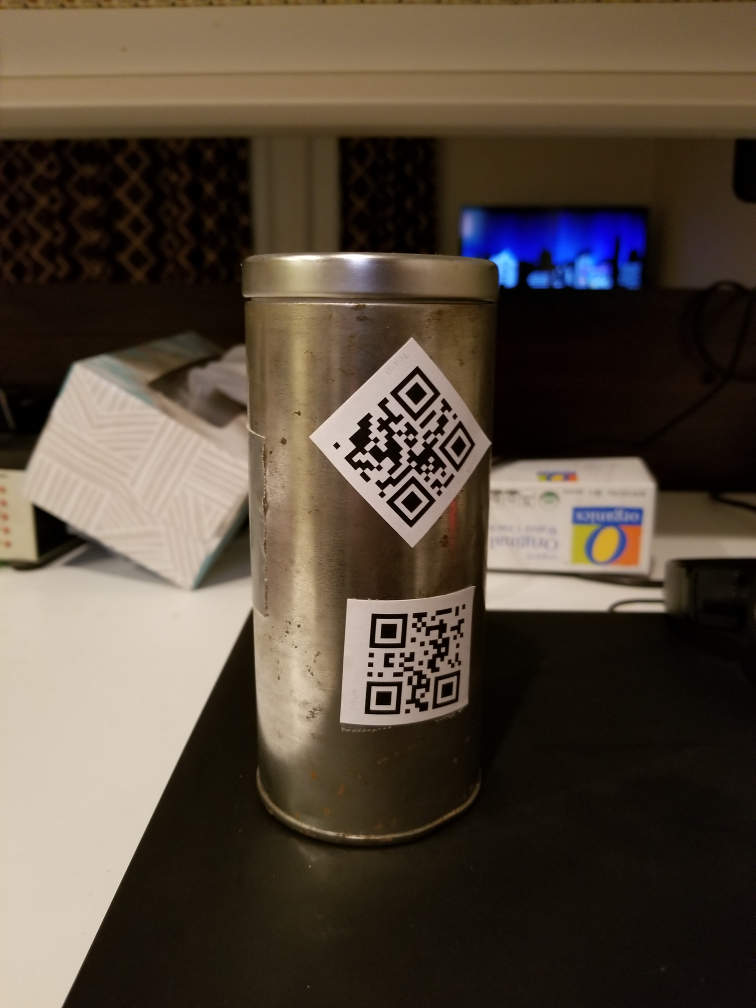QR_CODE: (319, 347, 489, 539), (352, 593, 483, 726)
